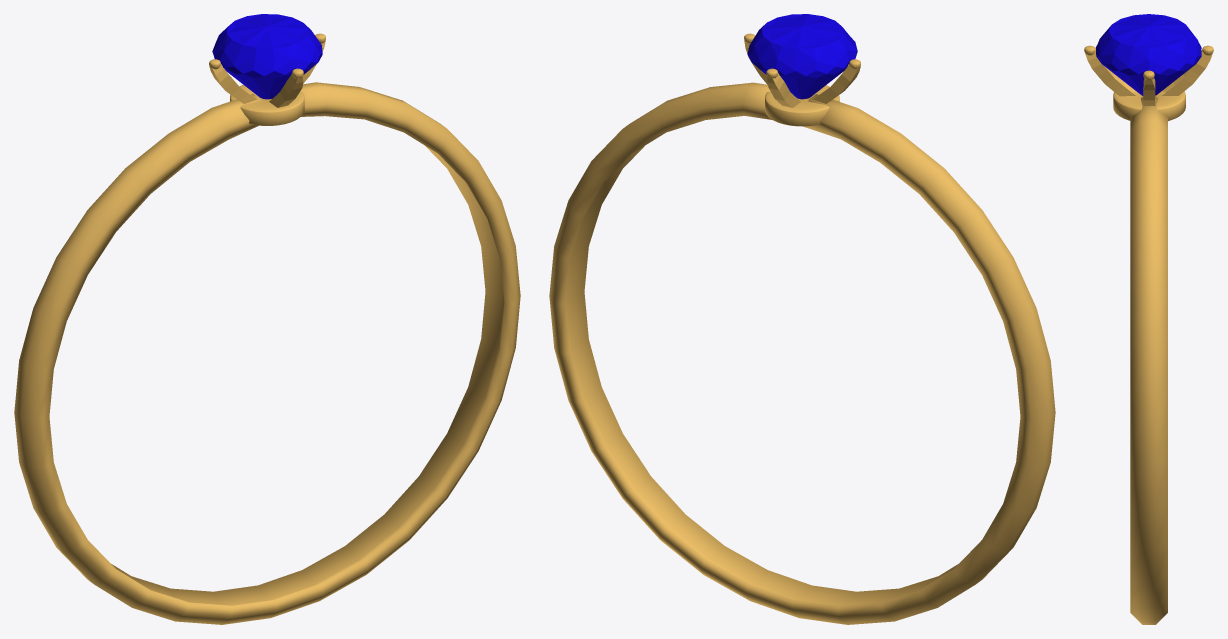
The model's file is bracelet.glb.
3 views of the same model, side by side, from view 1: azimuth 30°, elevation 25°; view 2: azimuth 150°, elevation 25°; view 3: azimuth 270°, elevation 25° (orthographic). The views are drawn at different scales.
Visible parts, largest first — view 1: Bracelet, Sapphire, Holder, Connector; view 2: Bracelet, Sapphire, Holder, Connector; view 3: Bracelet, Sapphire, Holder, Connector.
Part boxes in pixels (<box>): Bracelet: <box>14,82,520,624</box>; Sapphire: <box>212,14,322,99</box>; Holder: <box>209,33,325,107</box>; Connector: <box>230,84,304,125</box>; Bracelet: <box>549,82,1055,624</box>; Sapphire: <box>747,14,857,99</box>; Holder: <box>744,33,860,107</box>; Connector: <box>765,85,839,126</box>; Bracelet: <box>1130,96,1168,624</box>; Sapphire: <box>1095,14,1201,95</box>; Holder: <box>1084,45,1213,105</box>; Connector: <box>1113,91,1185,120</box>.
Size of what is drawn, in the model's own units: 1.06 by 1.19 by 0.245.
